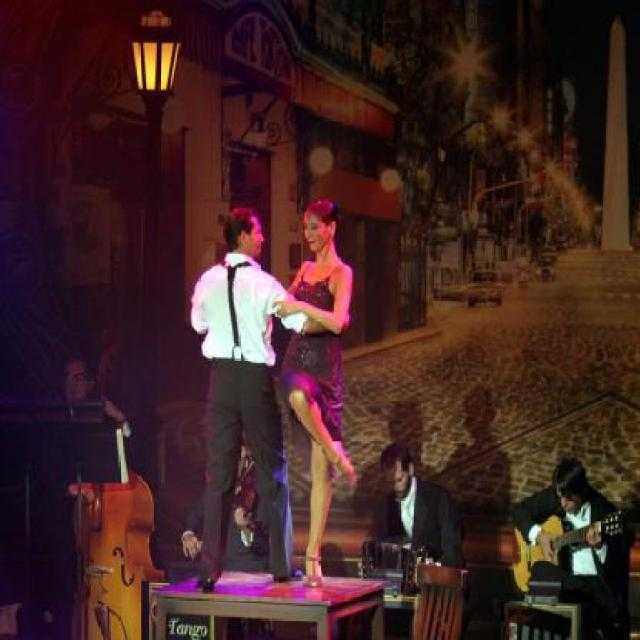Person: (191, 209, 349, 593), (287, 199, 355, 590), (511, 456, 632, 638), (371, 446, 460, 562)
